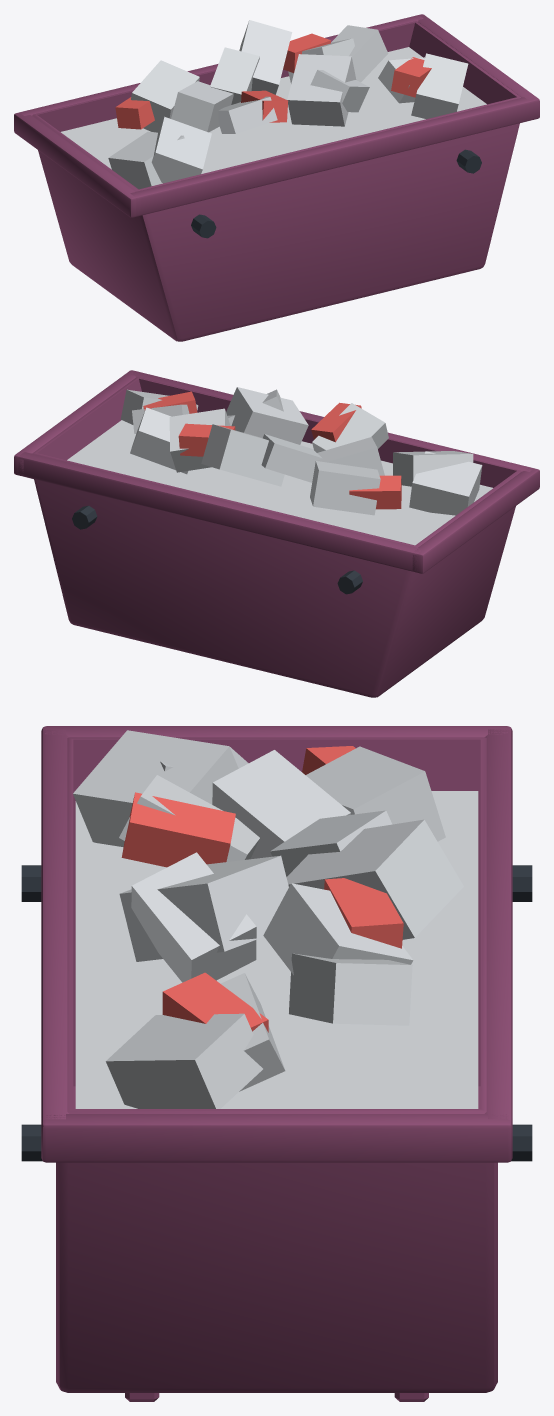
File: ENV_WASTE_SKIP_A_INERT_v001.glb
3 renders of one model, top to bottom at view 1: azimuth 30°, elevation 25°; view 2: azimuth 150°, elevation 25°; view 3: azimuth 270°, elevation 25°, orthographic. The views are drawn at different scales.
Visible parts, largest first — view 1: ENV_WASTE_SKIP_A_BODY, ENV_WASTE_SKIP_A_CONTENT, ENV_WASTE_SKIP_A_FITTINGS; view 2: ENV_WASTE_SKIP_A_BODY, ENV_WASTE_SKIP_A_CONTENT, ENV_WASTE_SKIP_A_FITTINGS; view 3: ENV_WASTE_SKIP_A_BODY, ENV_WASTE_SKIP_A_CONTENT, ENV_WASTE_SKIP_A_FITTINGS.
Part boxes in pixels (x1,y1,x2,y2): ENV_WASTE_SKIP_A_BODY: (14, 14, 539, 341); ENV_WASTE_SKIP_A_CONTENT: (61, 20, 486, 189); ENV_WASTE_SKIP_A_FITTINGS: (191, 149, 481, 238); ENV_WASTE_SKIP_A_BODY: (14, 370, 539, 697); ENV_WASTE_SKIP_A_CONTENT: (67, 387, 492, 545); ENV_WASTE_SKIP_A_FITTINGS: (72, 505, 362, 594); ENV_WASTE_SKIP_A_BODY: (41, 726, 512, 1401); ENV_WASTE_SKIP_A_CONTENT: (73, 730, 478, 1108); ENV_WASTE_SKIP_A_FITTINGS: (21, 865, 532, 1161).
Bounding box in the file's own units: 3.86 × 2.06 × 2.08.
